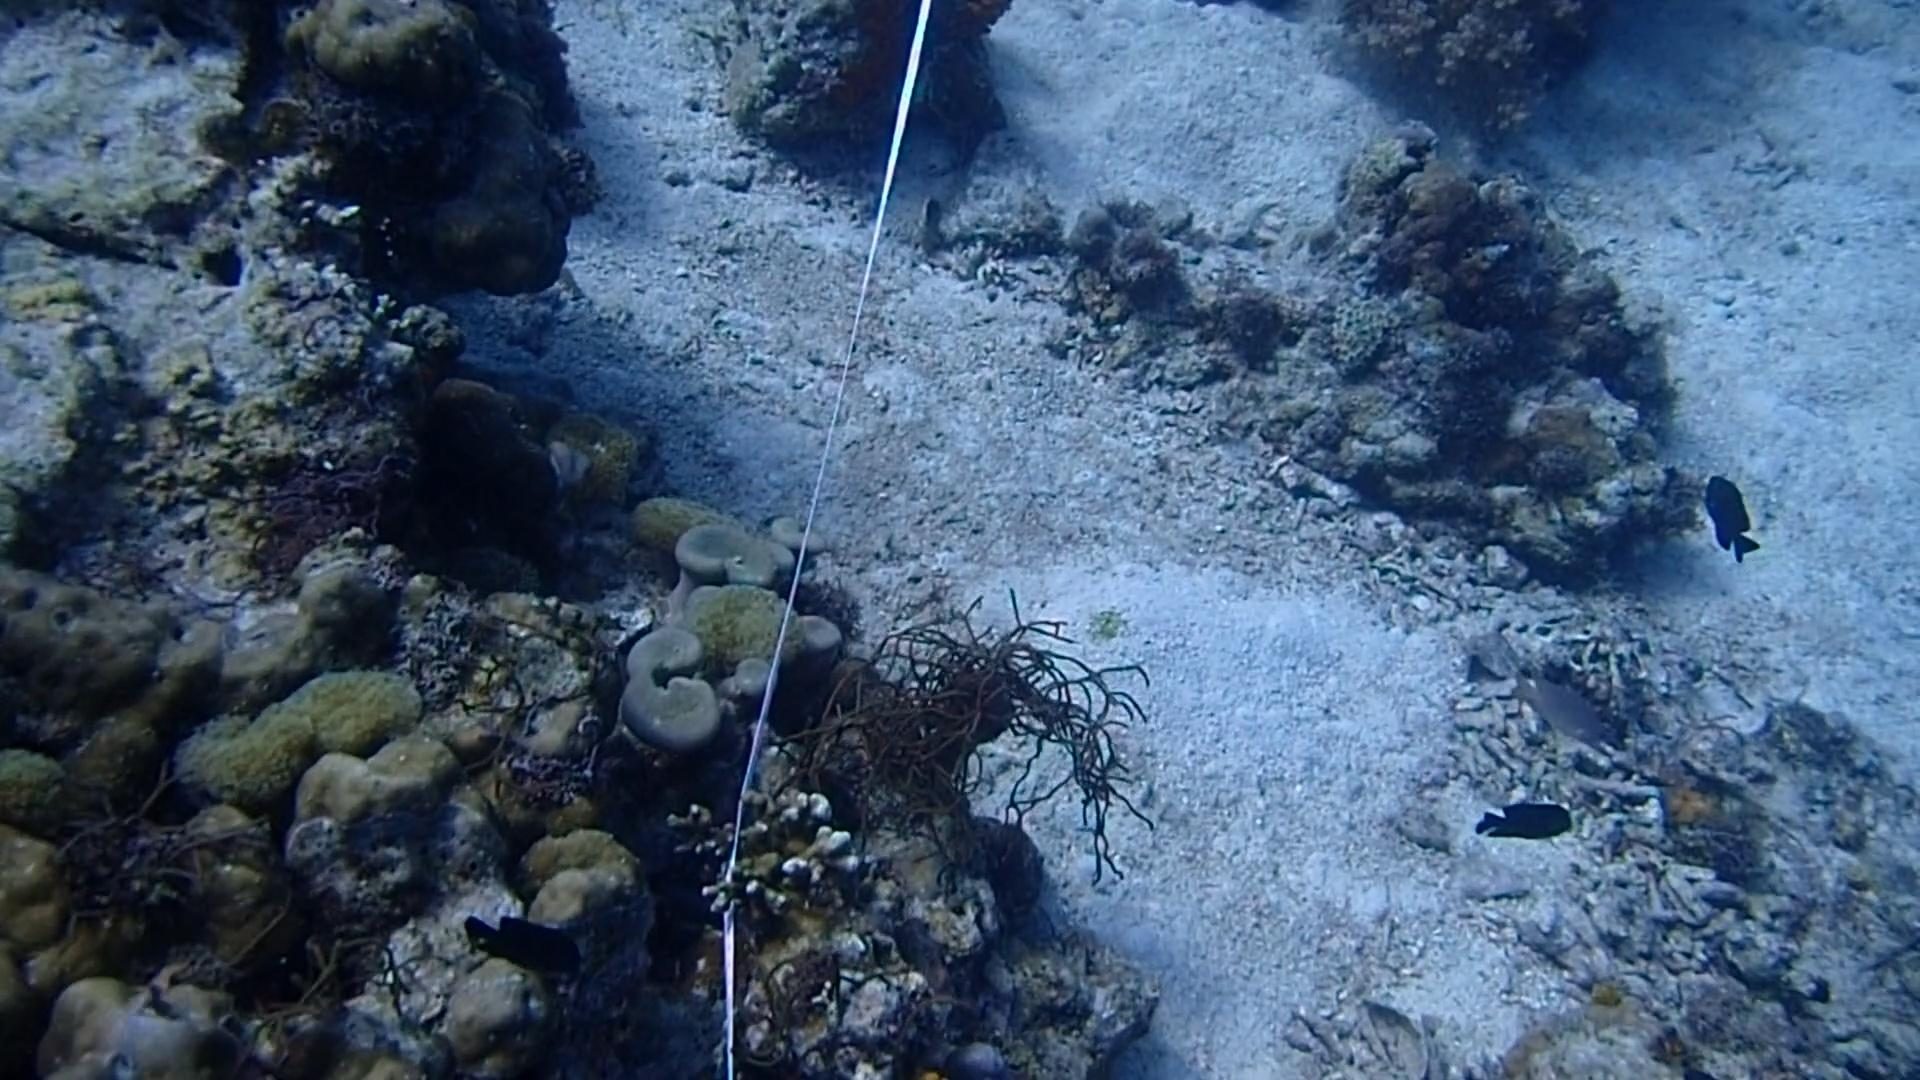Dark Fish: (1461, 783, 1581, 851), (1693, 460, 1760, 579)
Light Fish: (1497, 662, 1610, 746)
